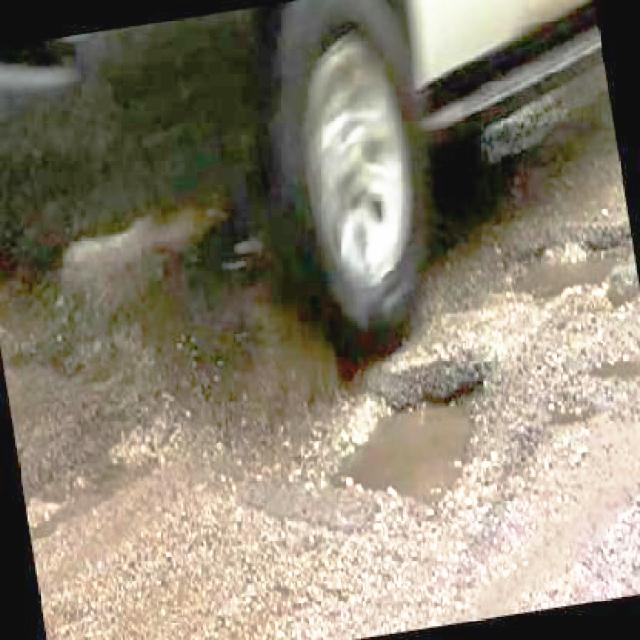pothole: (323, 349, 508, 508), (498, 212, 630, 302), (19, 305, 143, 389), (541, 334, 640, 428)
